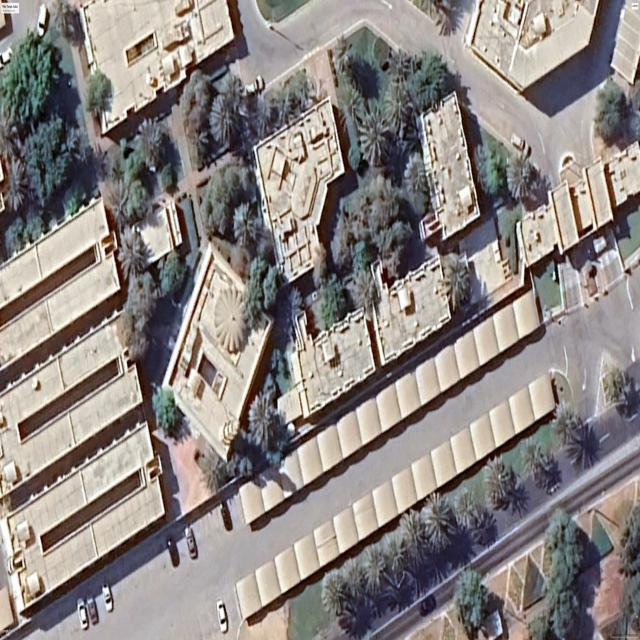mosque: (163, 243, 272, 459)
